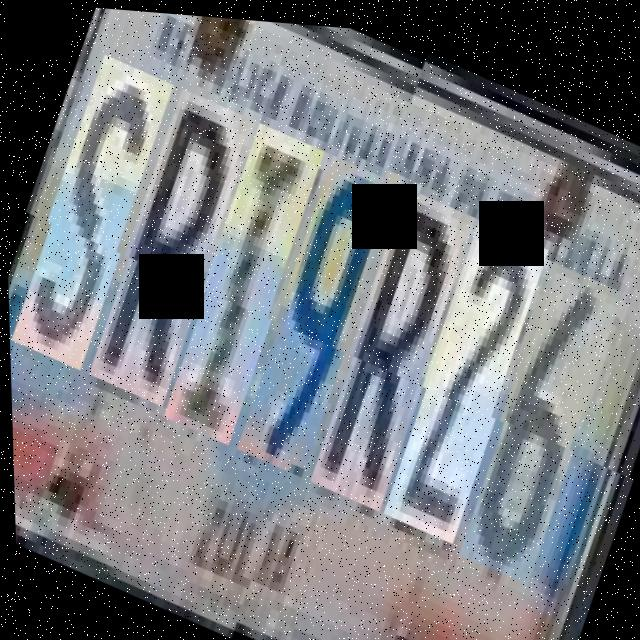2: (370, 215, 556, 552)
6: (445, 257, 630, 593)
9: (228, 144, 408, 479)
I: (154, 113, 334, 448)
R: (297, 184, 483, 522), (80, 80, 266, 411)
S: (2, 48, 184, 376)
